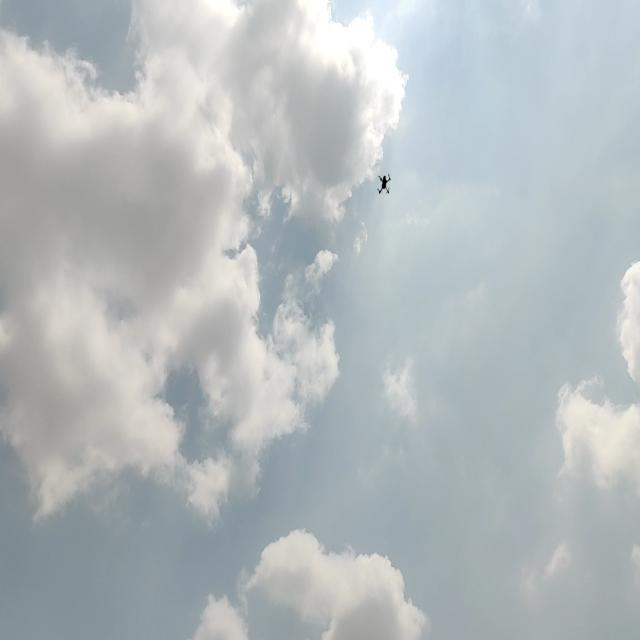drone: (374, 163, 398, 208)
